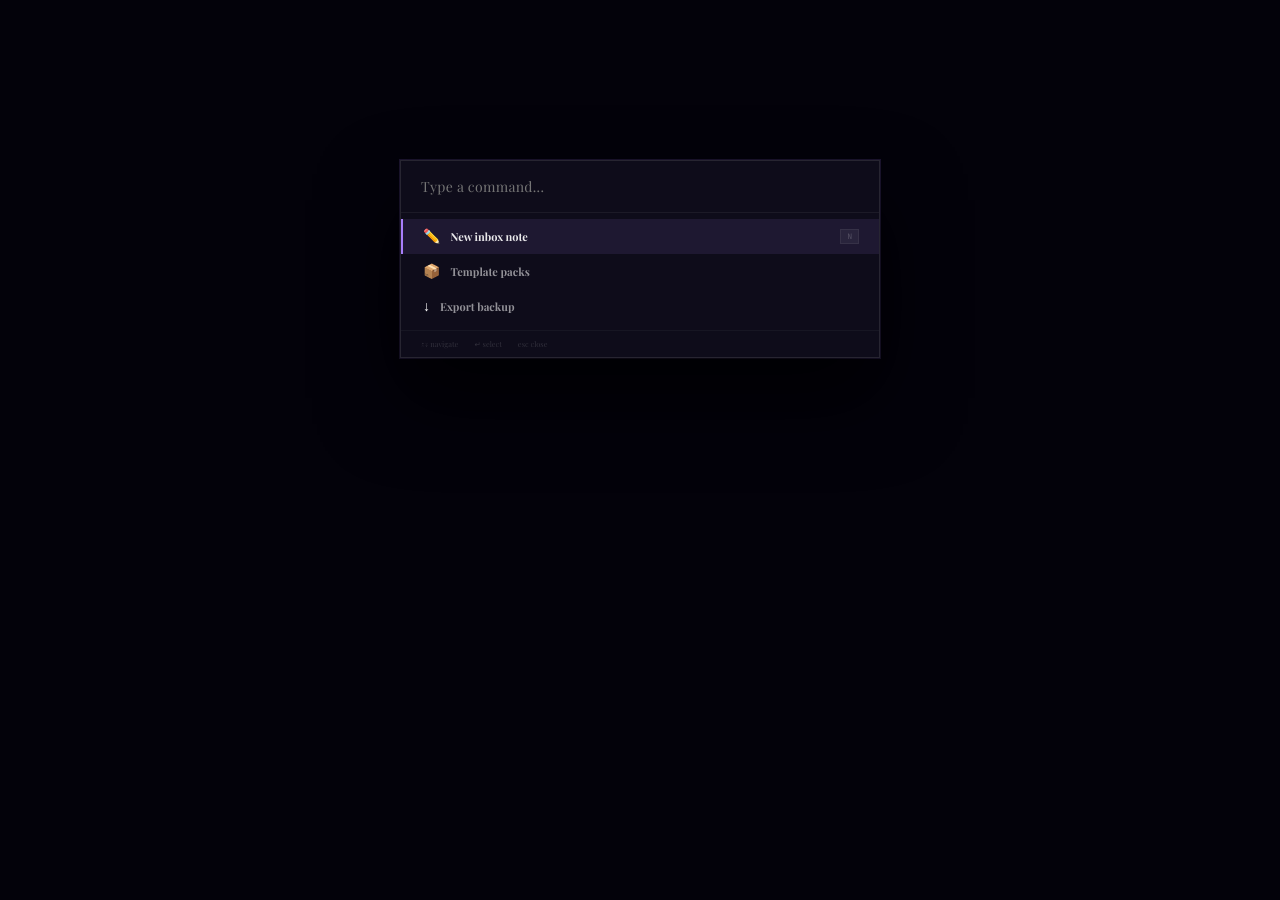
CommandPalette › filters actions by label text
Type "template" into the field with placeholder "Type a command..." at (640, 186), box [421,177,859,196]
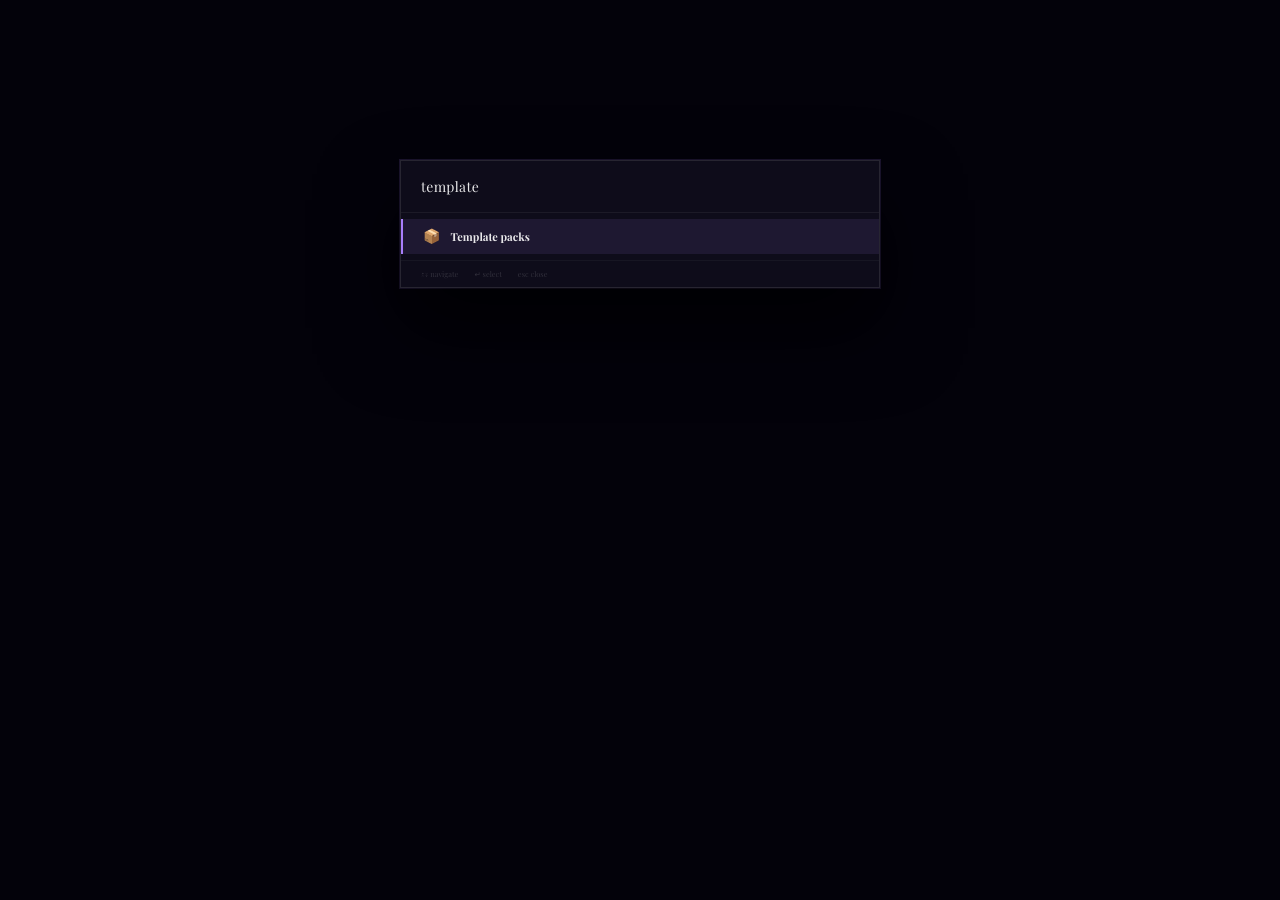
Expected: the text "Template packs" is shown, [450,229,530,244]
Expected: the text "New inbox note" is gone
Expected: the text "Export backup" is gone
